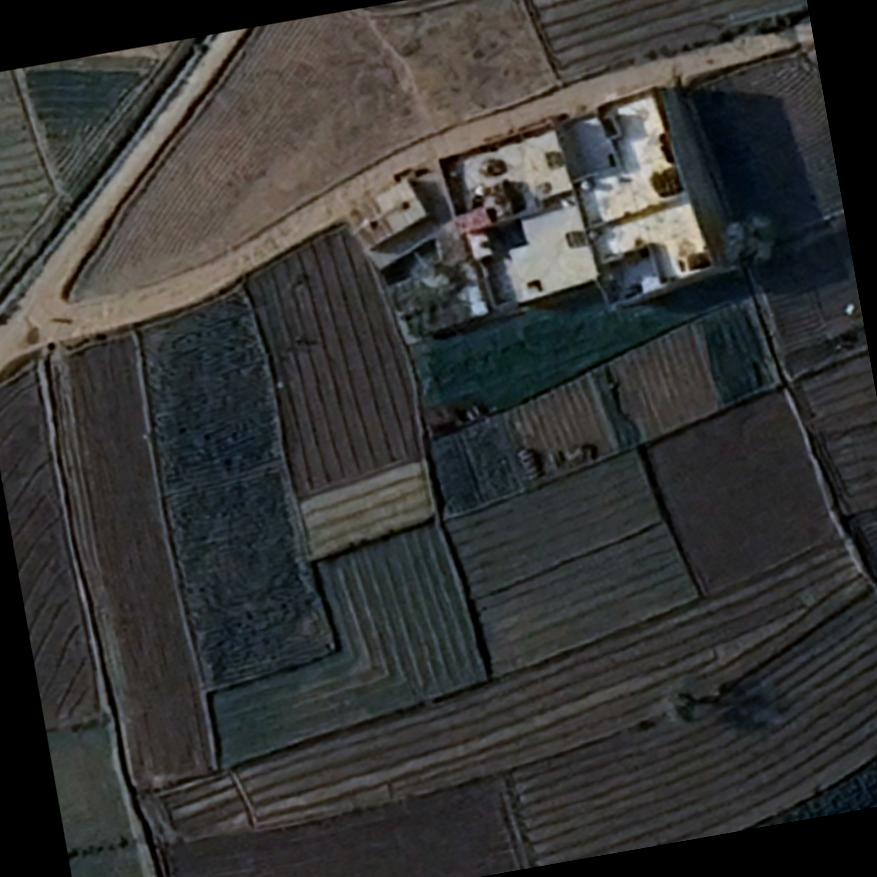Solarpanel: (564, 227, 591, 251), (543, 148, 565, 169)
